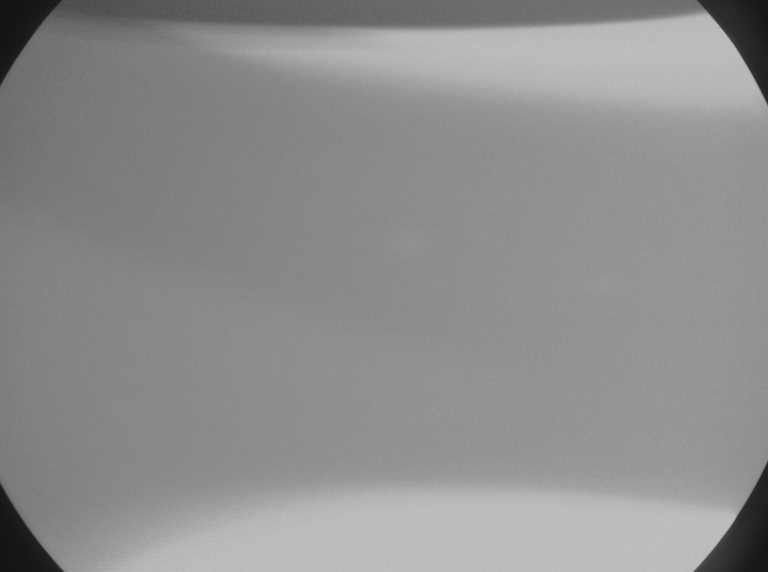defect: (586, 263, 621, 300)
